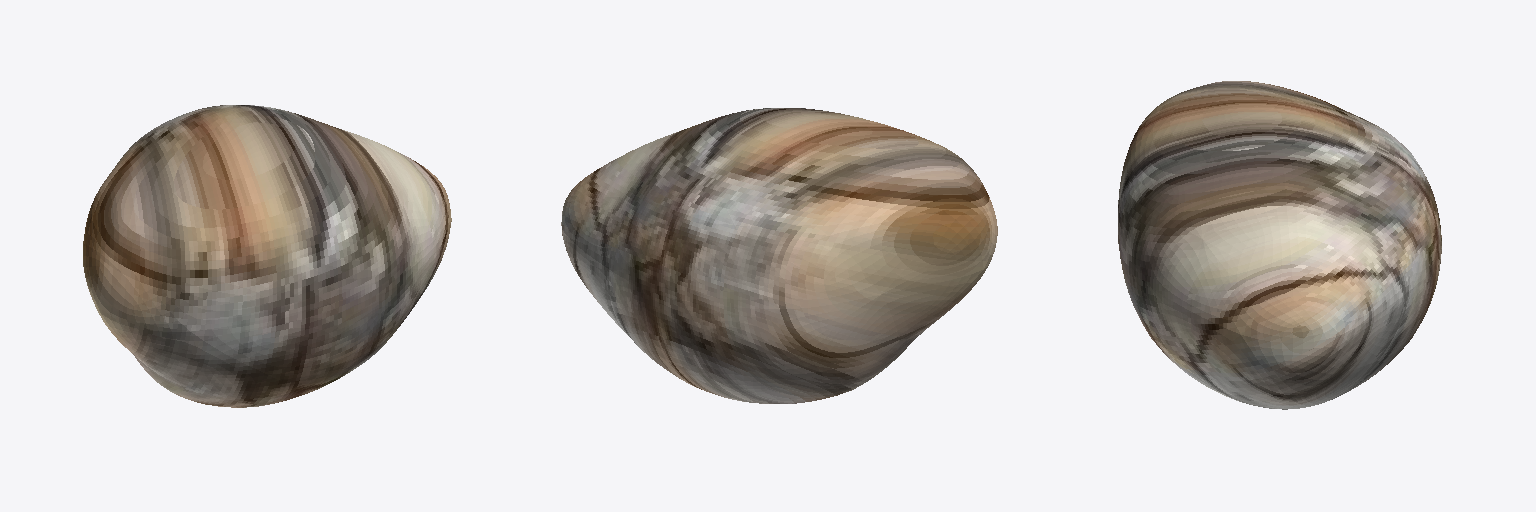
3 views of the same model, side by side, from view 1: azimuth 30°, elevation 25°; view 2: azimuth 150°, elevation 25°; view 3: azimuth 270°, elevation 25° (orthographic).
Visible parts, largest first — view 1: Icosphere; view 2: Icosphere; view 3: Icosphere.
Boxes of the visible parts, <box> form: Icosphere: <box>83,105,451,407</box>; Icosphere: <box>561,108,997,403</box>; Icosphere: <box>1118,81,1441,409</box>.
Size of the model in its own units: 0.3181 by 0.2131 by 0.2347.
1 materials, 1 textured.